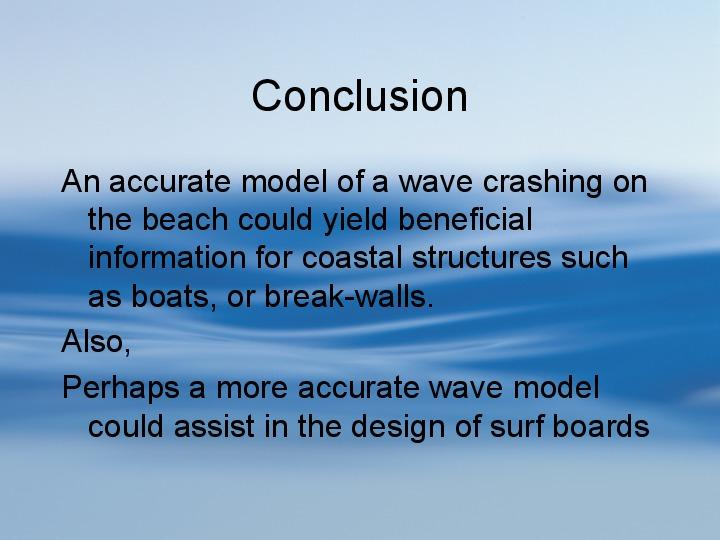paragraph: (47, 150, 686, 468)
title: (245, 69, 480, 123)
